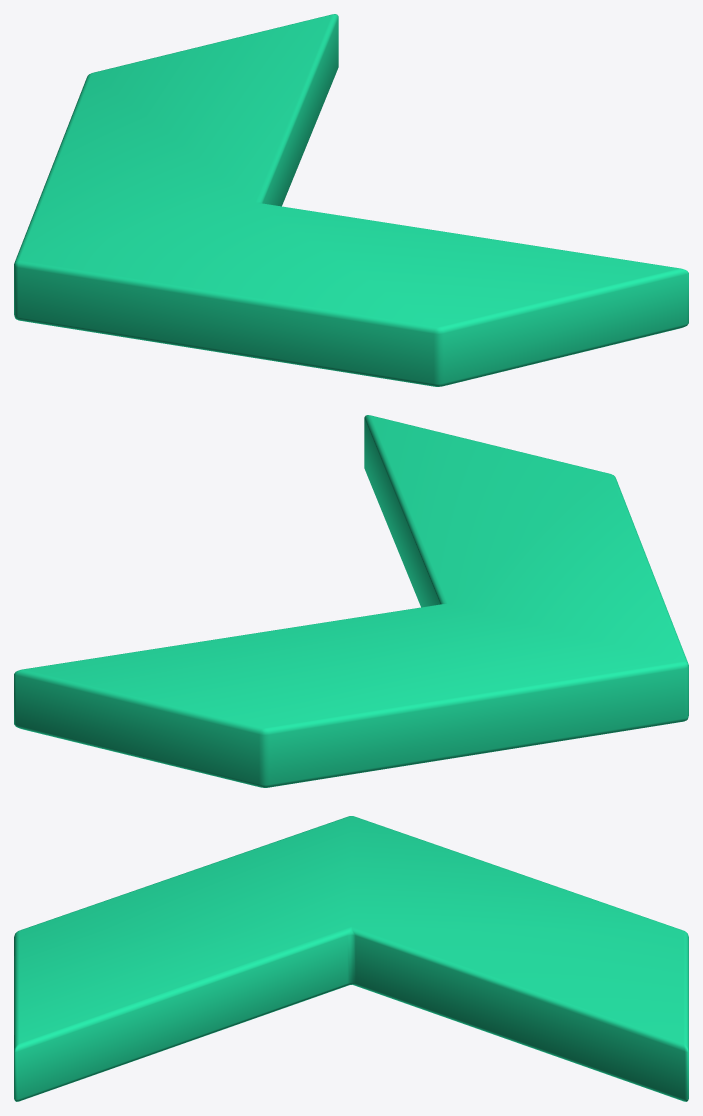
The model's file is SM_Arrow.glb.
3 renders of one model, top to bottom at view 1: azimuth 30°, elevation 25°; view 2: azimuth 150°, elevation 25°; view 3: azimuth 270°, elevation 25°, orthographic. The views are drawn at different scales.
Visible parts, largest first — view 1: SM_Arrow; view 2: SM_Arrow; view 3: SM_Arrow.
Boxes of the visible parts, box(x1,y1,x2,y2) form: SM_Arrow: box(14, 14, 688, 386); SM_Arrow: box(14, 415, 688, 787); SM_Arrow: box(14, 816, 688, 1101).
Bounding box in the file's own units: 1.02 × 0.1169 × 1.25.
